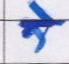e_matra: (29, 1, 55, 19)
